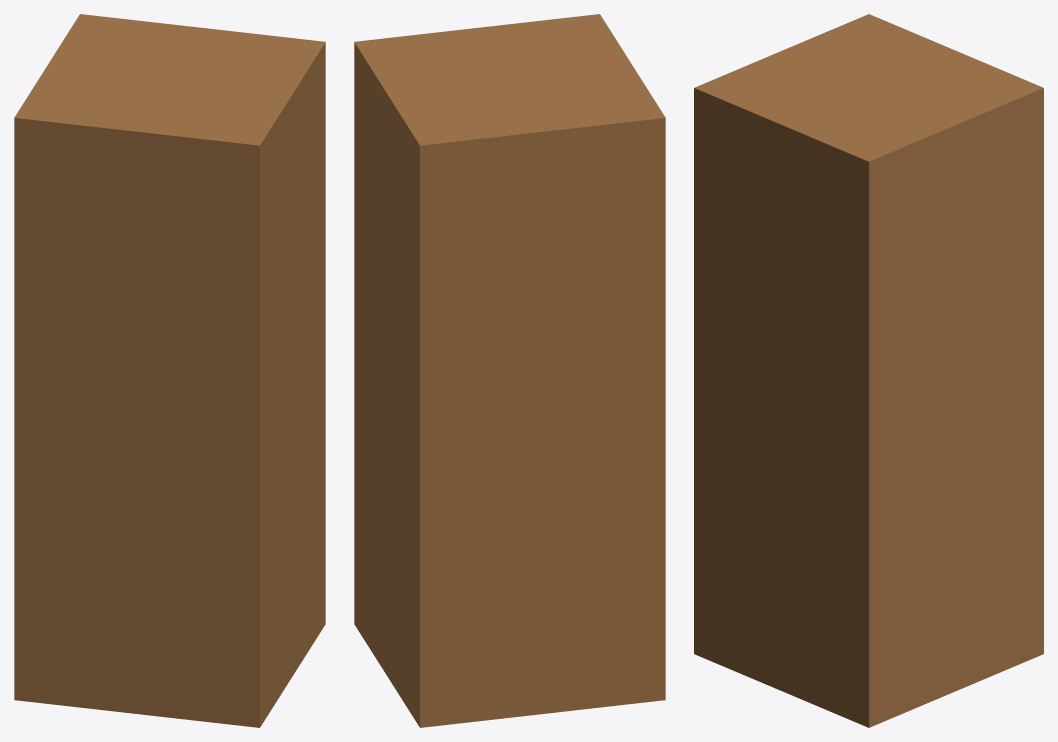
3 views of the same model, side by side, from view 1: azimuth 30°, elevation 25°; view 2: azimuth 150°, elevation 25°; view 3: azimuth 270°, elevation 25° (orthographic). The views are drawn at different scales.
Visible parts, largest first — view 1: column; view 2: column; view 3: column.
Boxes of the visible parts, box(x1,y1,x2,y2) form: column: box(14, 14, 325, 727); column: box(354, 14, 665, 727); column: box(694, 14, 1043, 727).
Bounding box in the file's own units: 0.084 × 0.15 × 0.084.
